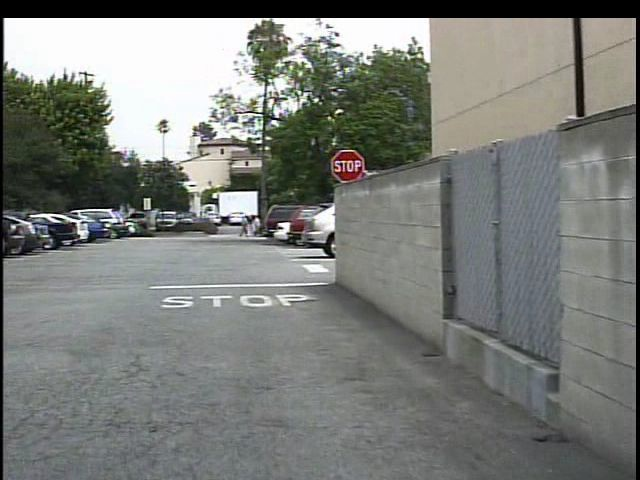person: (233, 215, 247, 241), (245, 215, 258, 240)
